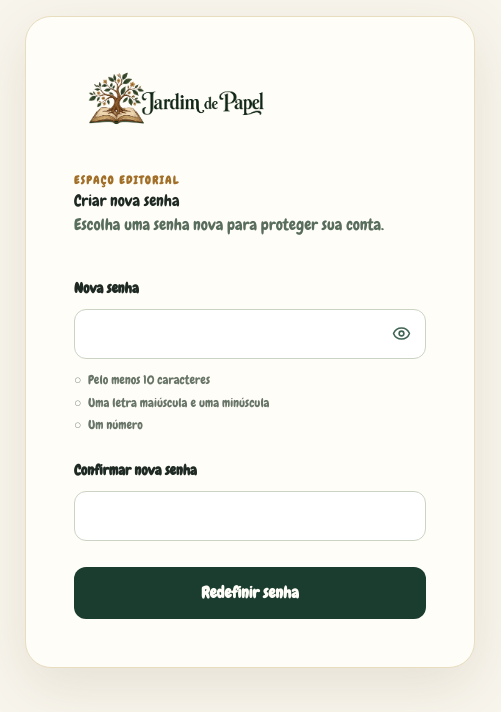
recuperação de senha administrativa › atualiza somente após uma recuperação válida e retorna ao login
Type "SenhaNova123" into the password field labelled "Nova senha" at (250, 334), box [74, 309, 426, 359]
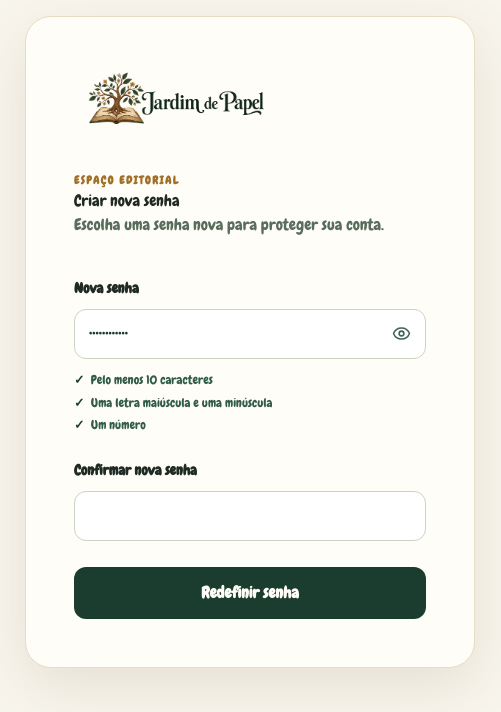
Type "SenhaNova123" into the password field labelled "Confirmar nova senha" at (250, 516), box [74, 491, 426, 541]
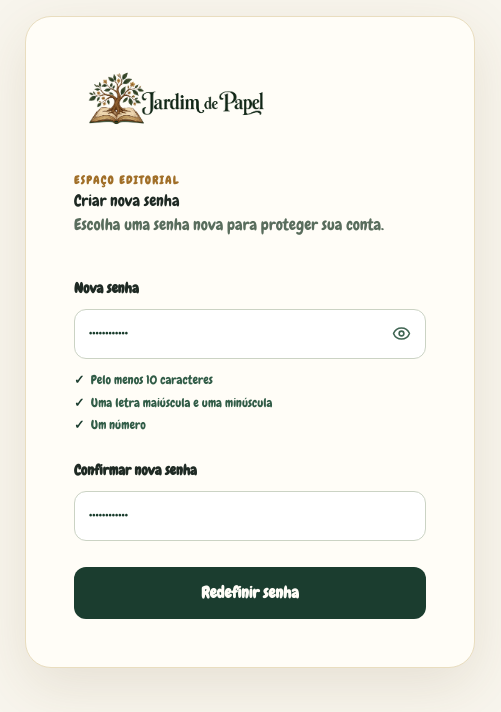
Click the button "Redefinir senha" at (250, 593), box [74, 567, 426, 619]
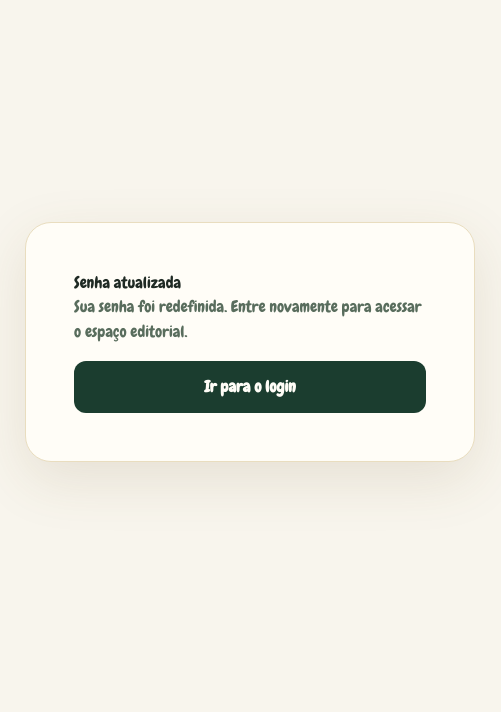
Expected: the message shows "senha foi redefinida", [74, 296, 422, 342]
